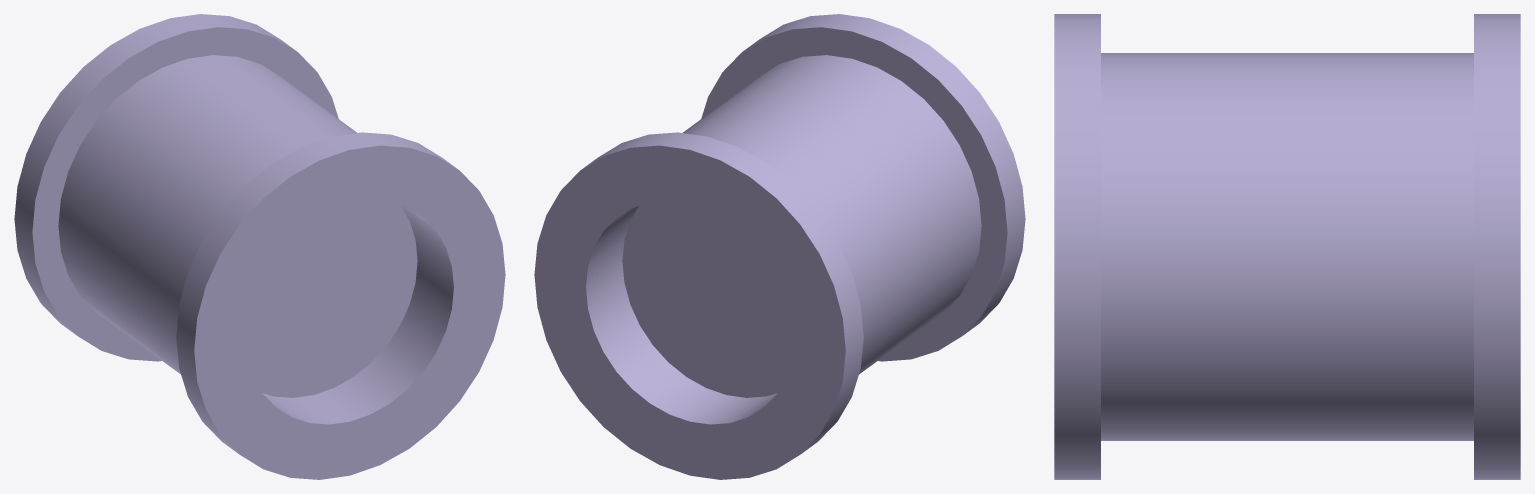
File: Pipe_001.fbx
The picture shows the model from 3 angles, left to right: view 1: azimuth 30°, elevation 25°; view 2: azimuth 150°, elevation 25°; view 3: azimuth 270°, elevation 25°; orthographic projection. The views are drawn at different scales.
Visible parts, largest first — view 1: Pipe.001; view 2: Pipe.001; view 3: Pipe.001.
Boxes of the visible parts, x1,y1,x2,y2 form: Pipe.001: [14, 14, 505, 479]; Pipe.001: [534, 14, 1025, 479]; Pipe.001: [1054, 14, 1520, 479].
Bounding box in the file's own units: 50 × 50 × 50.
